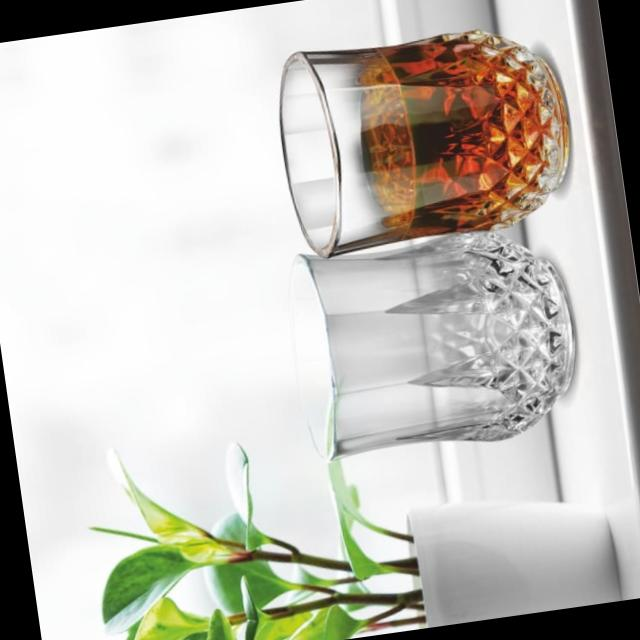glass: (256, 4, 594, 265), (260, 222, 574, 467)
